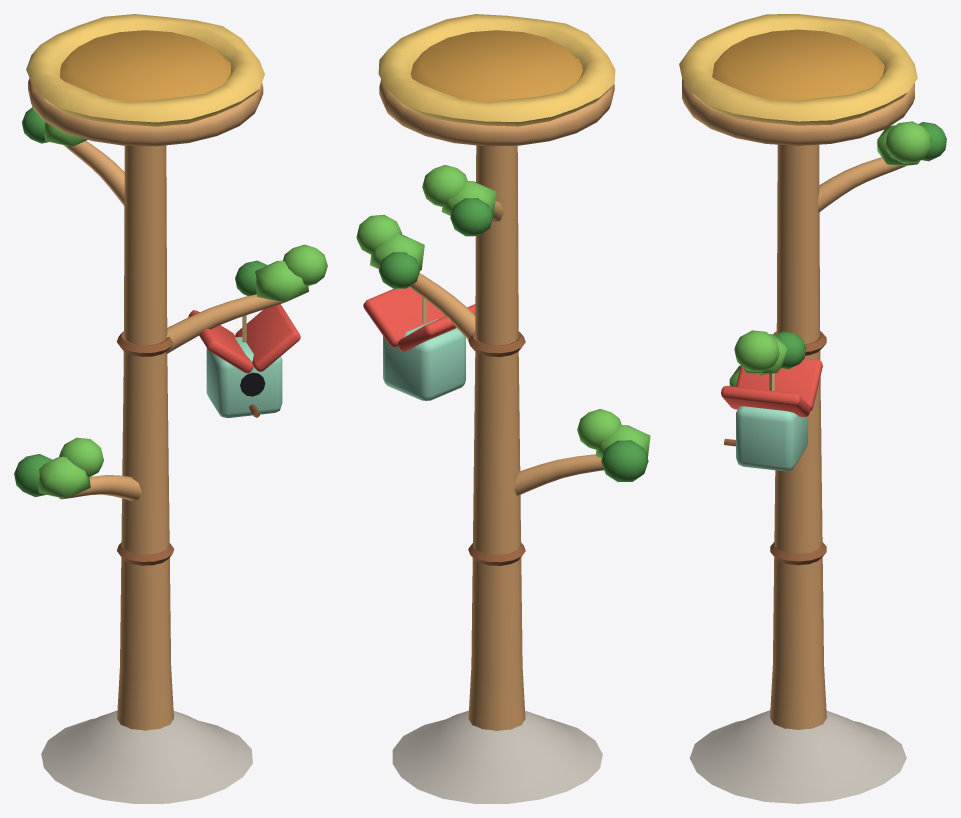
Rendered from prop_perch.glb.
The picture shows the model from 3 angles, left to right: view 1: azimuth 30°, elevation 25°; view 2: azimuth 150°, elevation 25°; view 3: azimuth 270°, elevation 25°; orthographic projection.
Parts seen in each view (by area): view 1: prop_perch; view 2: prop_perch; view 3: prop_perch.
Part boxes in pixels (bbox=[...]): prop_perch: bbox=[14, 14, 327, 803]; prop_perch: bbox=[356, 14, 650, 803]; prop_perch: bbox=[679, 14, 946, 803].
Bounding box in the file's own units: 1.34 × 3.01 × 1.05.
